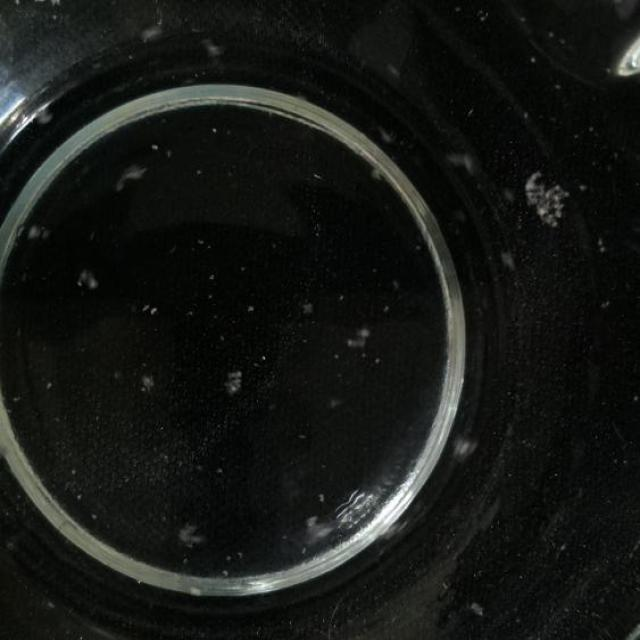fiber: (522, 160, 571, 228), (115, 160, 148, 193), (450, 434, 481, 466), (180, 517, 206, 555), (17, 222, 51, 248), (345, 326, 373, 357), (143, 15, 165, 48), (135, 367, 157, 398), (444, 150, 478, 170), (76, 265, 101, 292), (498, 245, 517, 276), (228, 362, 245, 395), (204, 33, 222, 60), (468, 599, 488, 618), (139, 298, 159, 314), (33, 109, 54, 121), (301, 301, 314, 313)
